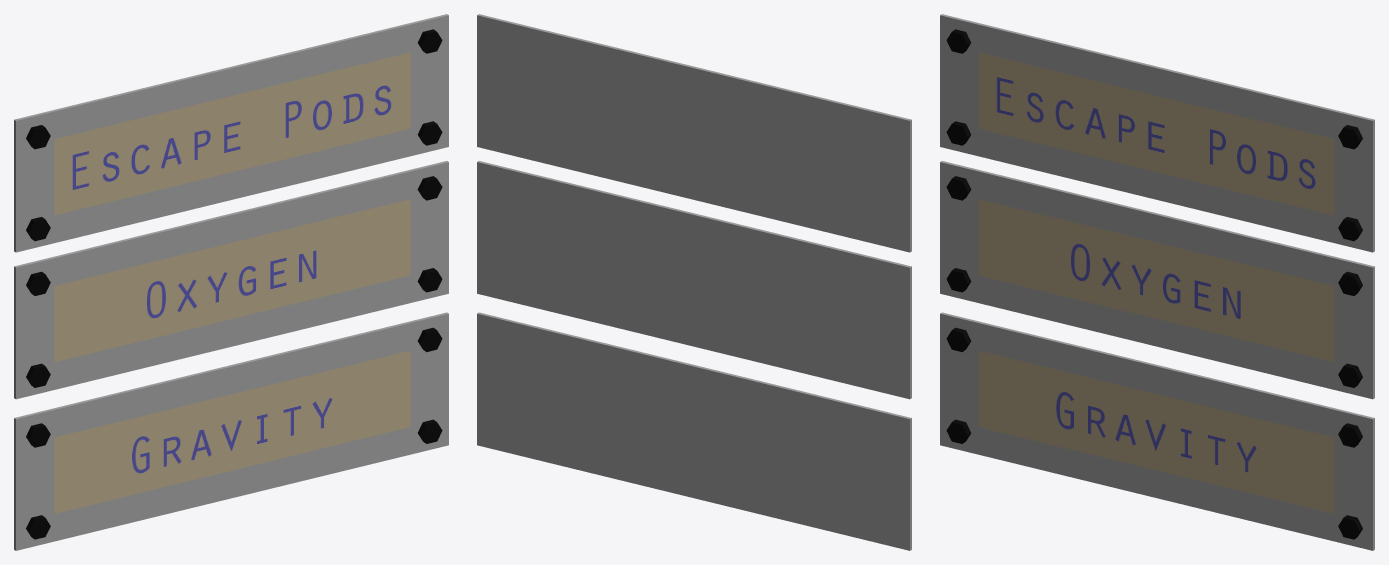
File: WW_engravings_prop.fbx
3 renders of one model, left to right at view 1: azimuth 30°, elevation 25°; view 2: azimuth 150°, elevation 25°; view 3: azimuth 330°, elevation 25°, orthographic.
Parts seen in each view (by area): view 1: pCube4, pCube2, pCube3; view 2: pCube4, pCube2, pCube3; view 3: pCube4, pCube2, pCube3.
Boxes of the visible parts, <box> form: pCube4: <box>14,14,448,252</box>; pCube2: <box>14,312,448,550</box>; pCube3: <box>14,161,448,399</box>; pCube4: <box>477,14,911,252</box>; pCube2: <box>477,312,911,550</box>; pCube3: <box>477,161,911,399</box>; pCube4: <box>940,14,1374,252</box>; pCube2: <box>940,312,1374,550</box>; pCube3: <box>940,161,1374,399</box>.
Bounding box in the file's own units: 14.7 × 13.95 × 0.3209.
